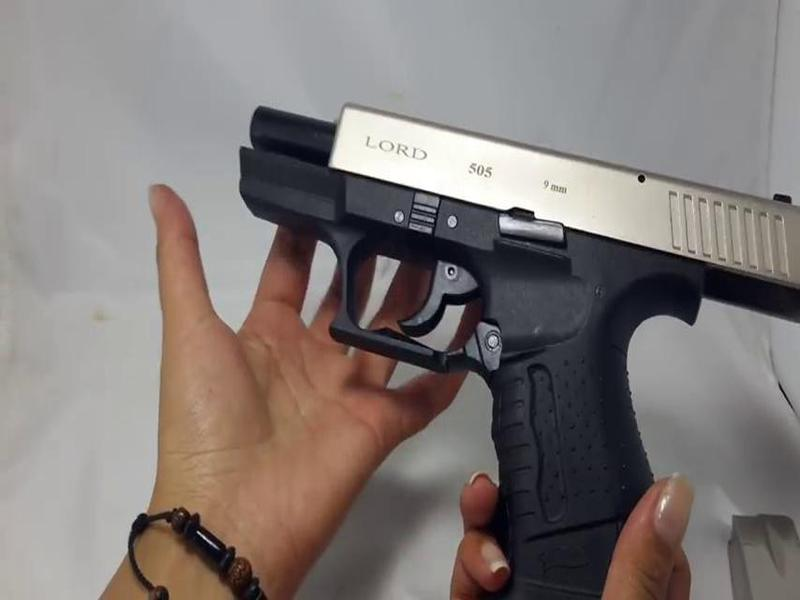Pistola: (221, 82, 800, 569)
